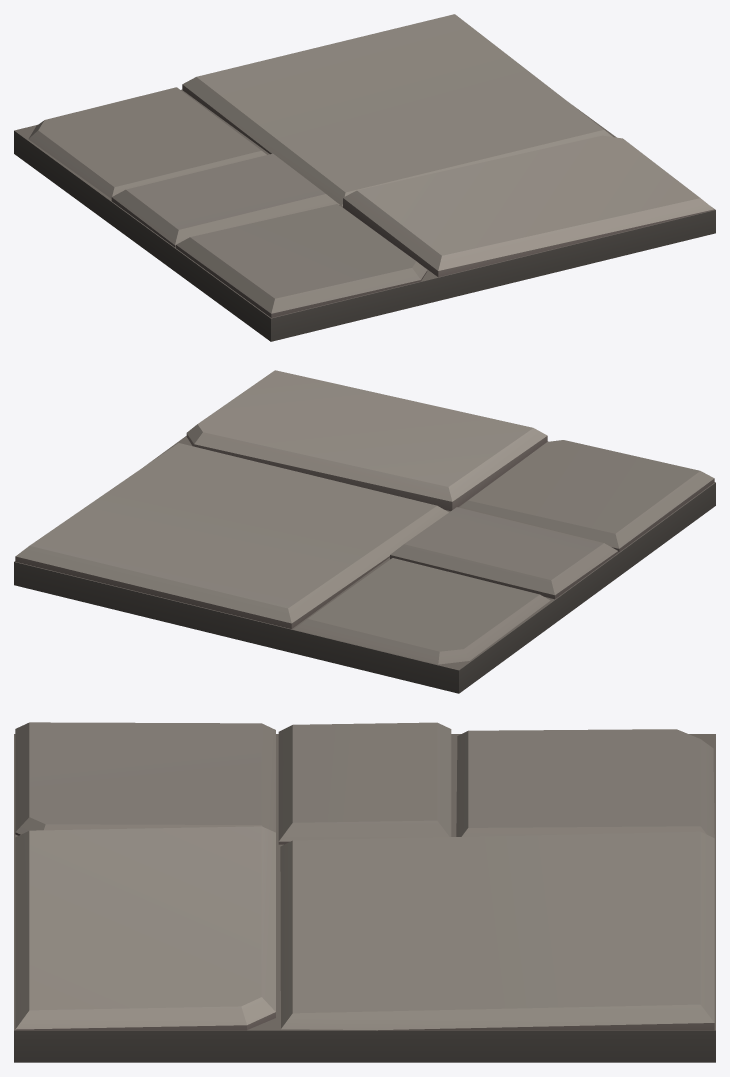
Rendered from floor_flagstones_ruined_small_C.glb.
3 renders of one model, top to bottom at view 1: azimuth 30°, elevation 25°; view 2: azimuth 150°, elevation 25°; view 3: azimuth 270°, elevation 25°, orthographic. The views are drawn at different scales.
Parts seen in each view (by area): view 1: Item; view 2: Item; view 3: Item.
Boxes of the visible parts, x1,y1,x2,y2 form: Item: (14,14,715,341); Item: (14,370,715,693); Item: (14,722,715,1062).
Size of the model in its own units: 2 by 0.1802 by 2.
1 material, 1 textured.
